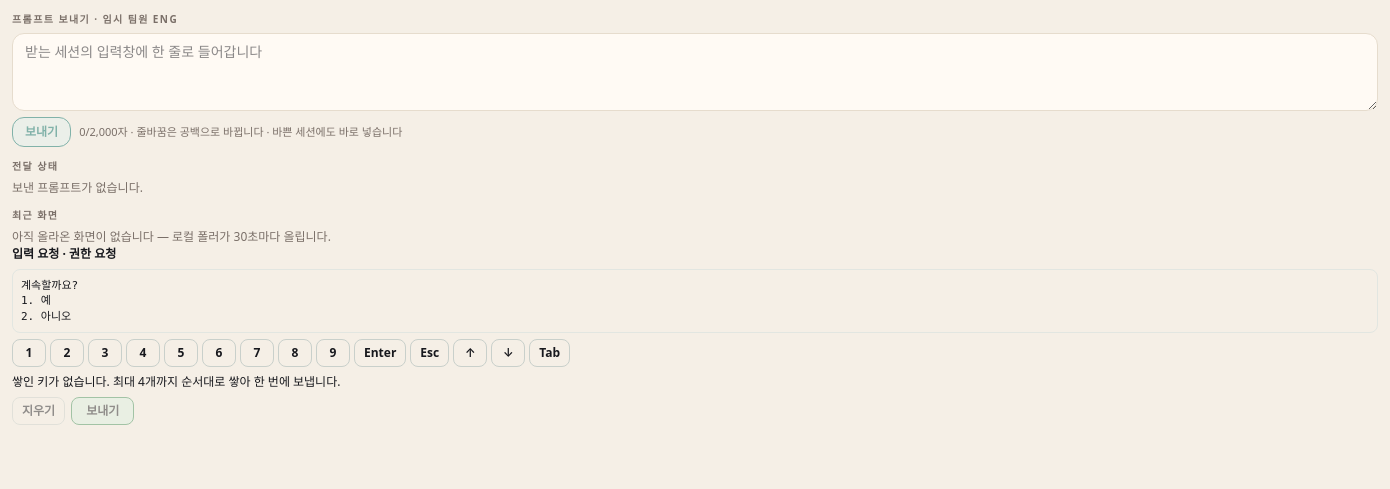
Test: AgentConsole — 입력 요청 답하기 › 결과 코드마다 한국어 안내를 보인다 — 창이 바뀌면 최신 화면을 다시 읽는다
What coordinates should you click on to do the following:
click the button "1"
I would click on:
 (29, 353)
Its box is [12,339,46,367].
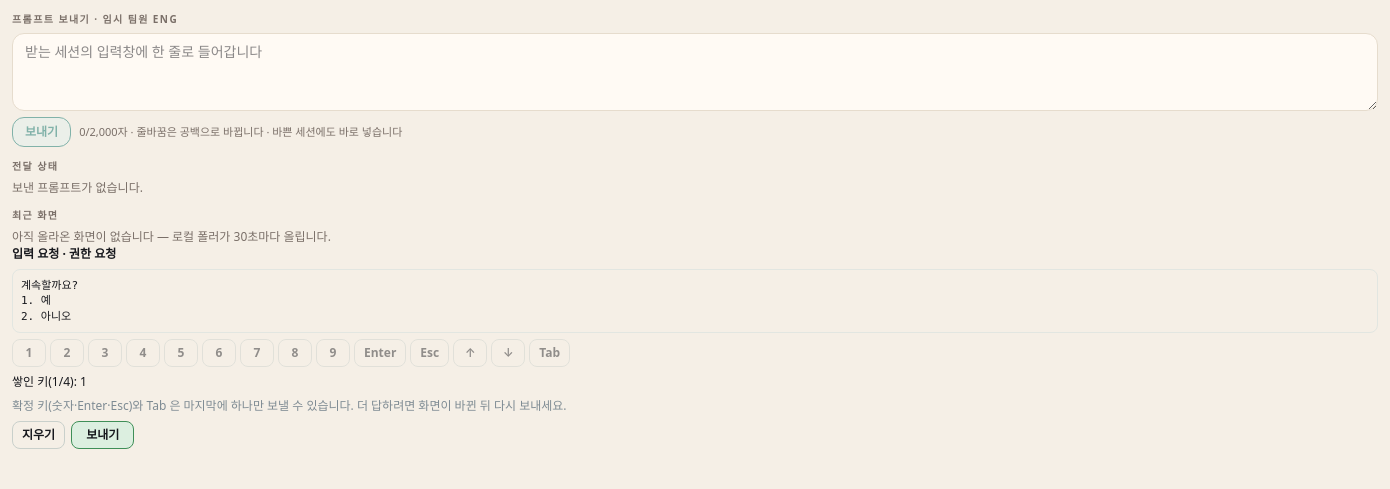
What coordinates should you click on to do the following:
click the button "보내기" below "쌓인 키(1/4): 1"
I would click on:
 (103, 435)
Its box is [71,421,134,449].
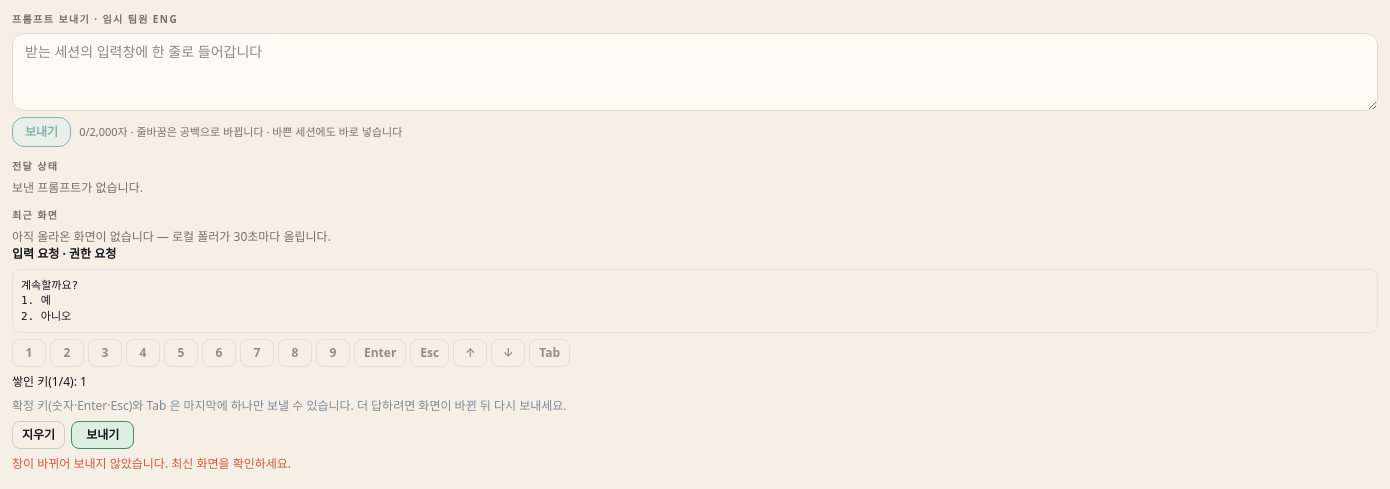
expect the message "창이 바뀌어 보내지 않았습니다. 최신 화면을 확인하세요." is shown: met, box [12,455,291,472]
What coordinates should you click on to do the following:
click the button "보내기" below "쌓인 키(1/4): 1"
I would click on:
 (103, 435)
Its box is [71,421,134,449].
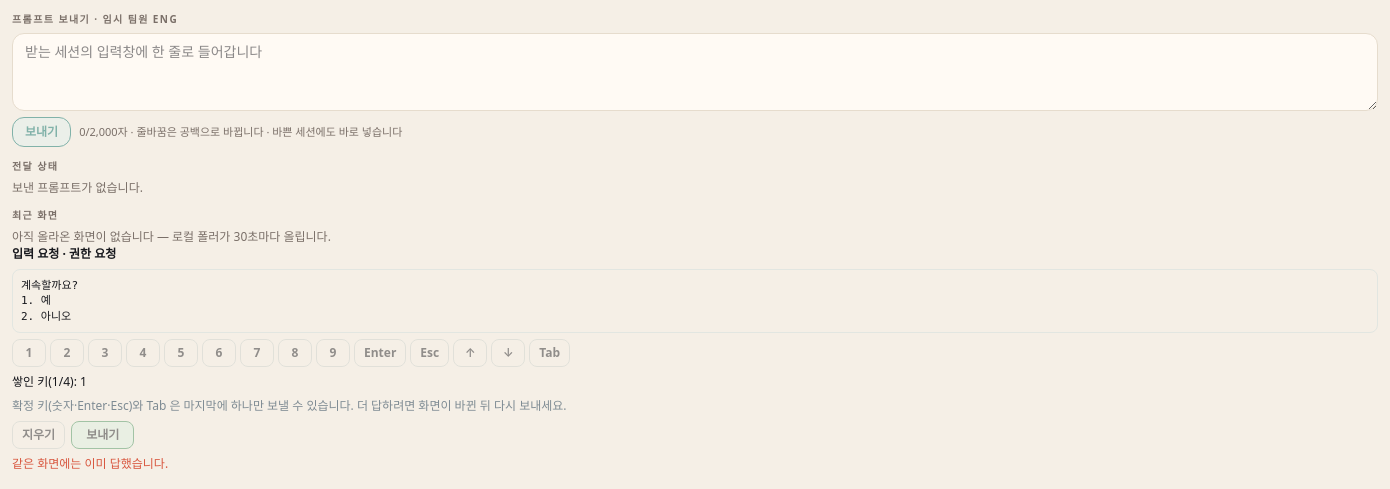
expect the message "같은 화면에는 이미 답했습니다." is shown: met, box [12,455,168,472]
expect the button "보내기" below "쌓인 키(1/4): 1" is disabled: met, box [71,421,134,449]
